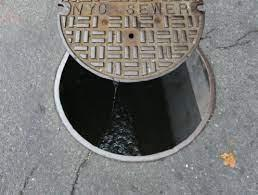open manhole-not overflowing-: (41, 0, 231, 169)
